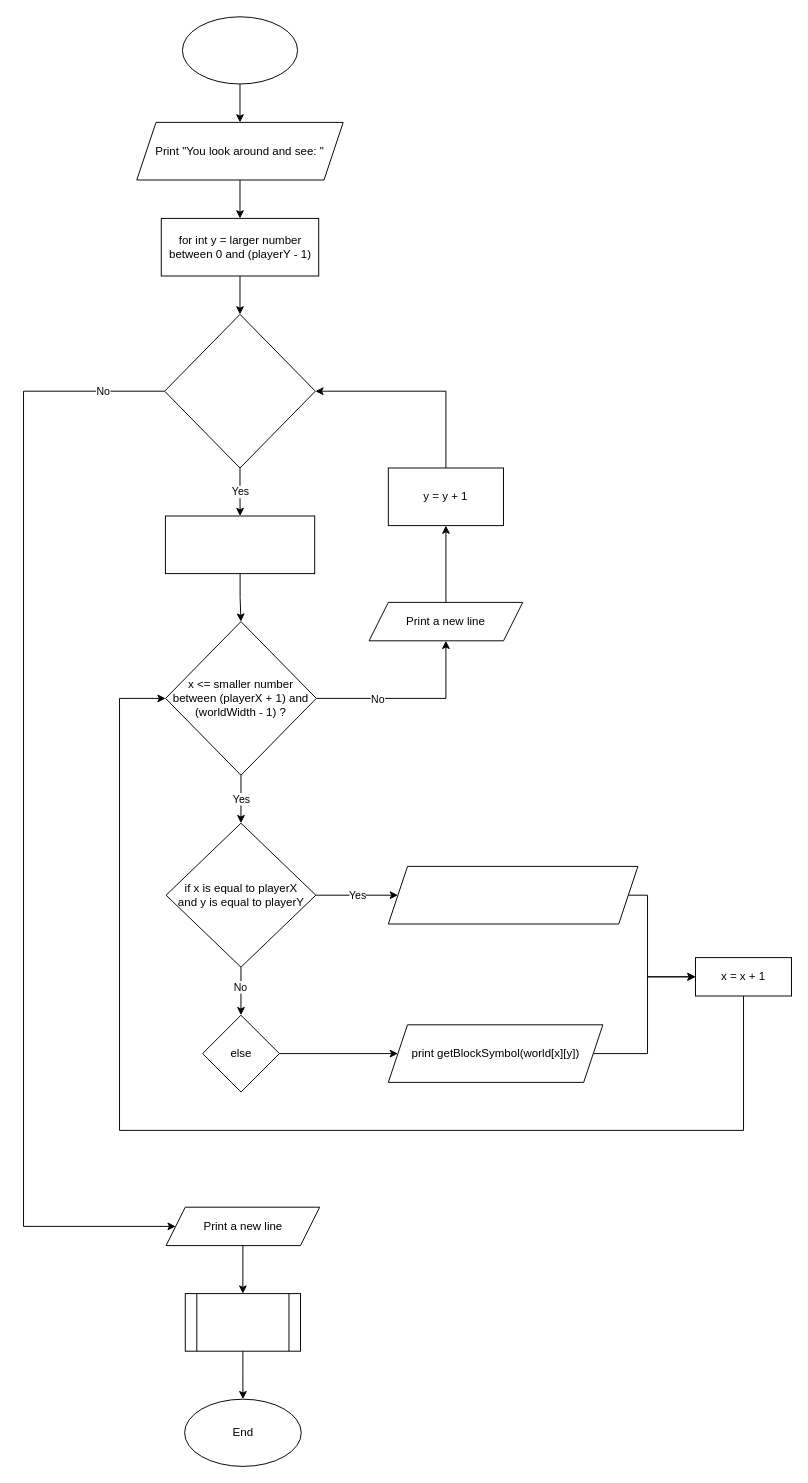
This 808x1483 diagram has some shape labels left out. The shapes that lost their labels are listed below. From the top down, each one's centre as x and y in pixels, then its label:
point 239,50: Look Around
point 239,390: y <= smaller number between (playerY + 1) and (worldHeight - 1) ?
point 239,544: for int x = larger number between 0 and (playerX - 1)
point 512,894: print "P" in green and reset color after that
point 242,1322: Wait for Enter
